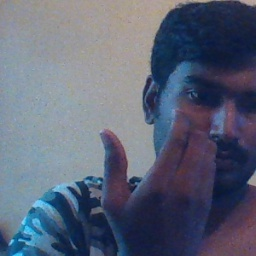U: (98, 108, 216, 241)
